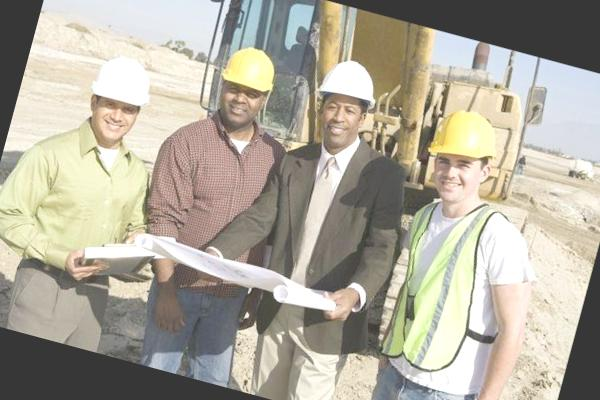helmet: (424, 98, 510, 172), (84, 48, 160, 114), (313, 52, 386, 114), (216, 38, 284, 97)
no_vest: (222, 123, 412, 353), (127, 103, 287, 305), (5, 112, 151, 284)
person: (218, 44, 437, 400), (103, 31, 304, 385), (353, 101, 574, 400), (0, 32, 184, 355)
